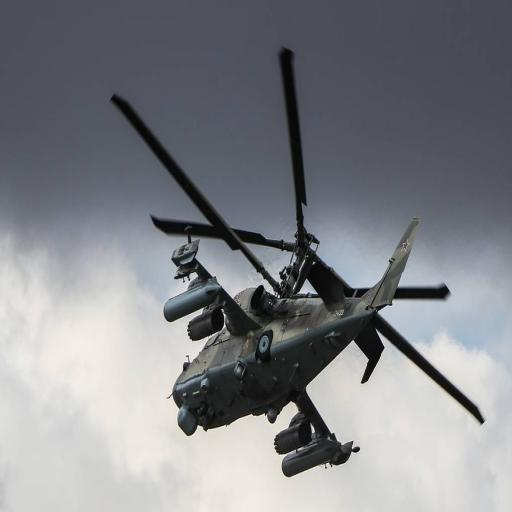helicopter: (89, 40, 483, 495)
